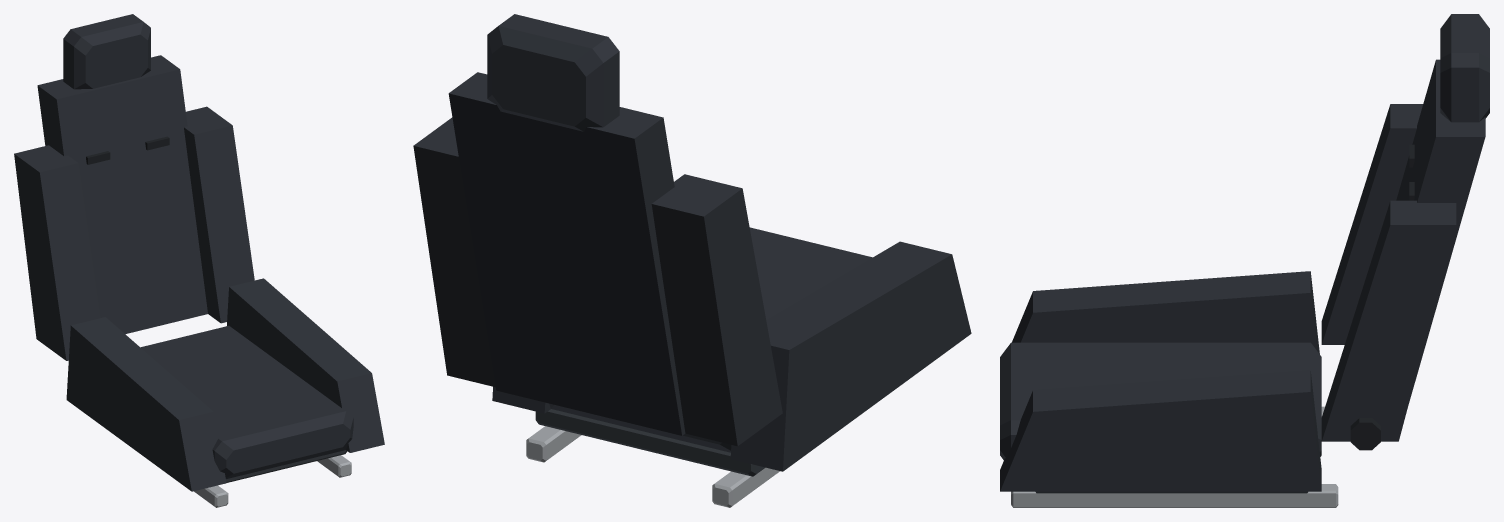
The model's file is apex_v8.glb.
The picture shows the model from 3 angles, left to right: view 1: azimuth 30°, elevation 25°; view 2: azimuth 150°, elevation 25°; view 3: azimuth 270°, elevation 25°; orthographic projection. The views are drawn at different scales.
Parts seen in each view (by area): view 1: model; view 2: model; view 3: model.
Boxes of the visible parts, bbox=[...] form: model: bbox=[14, 14, 384, 507]; model: bbox=[413, 14, 971, 507]; model: bbox=[1000, 14, 1489, 507].
Size of the model in its own units: 0.54 by 0.868 by 0.8908.
3 materials, 1 textured.
